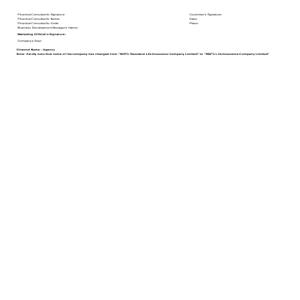text: (16, 46, 271, 58), (15, 11, 86, 31), (187, 11, 224, 31), (16, 32, 67, 38), (16, 37, 42, 45)
